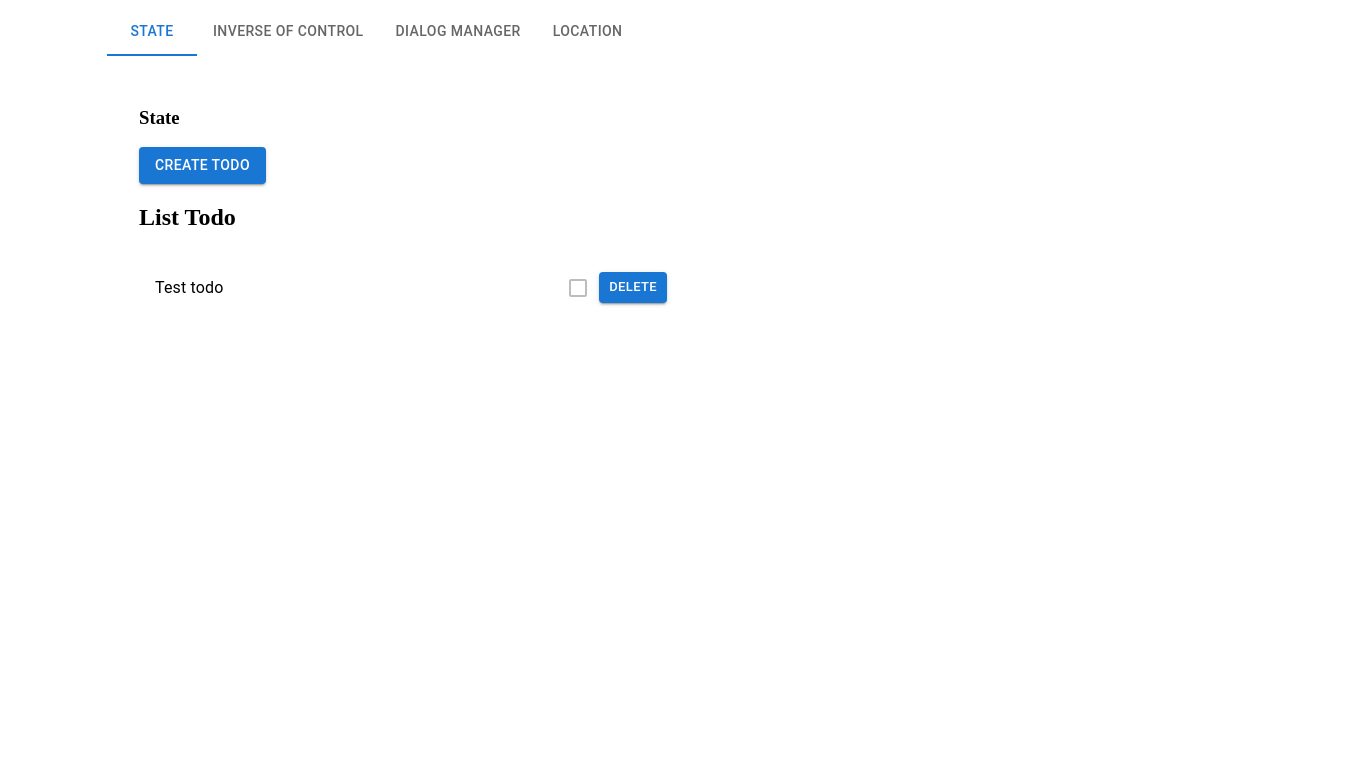
Test: ListPage test suite › should open delete modal in state page
The image size is (1366, 768).
Expected: the text "Test todo" is shown, [155,278,223,297]
Click the button "Delete" at (633, 288), box [599,272,667,303]
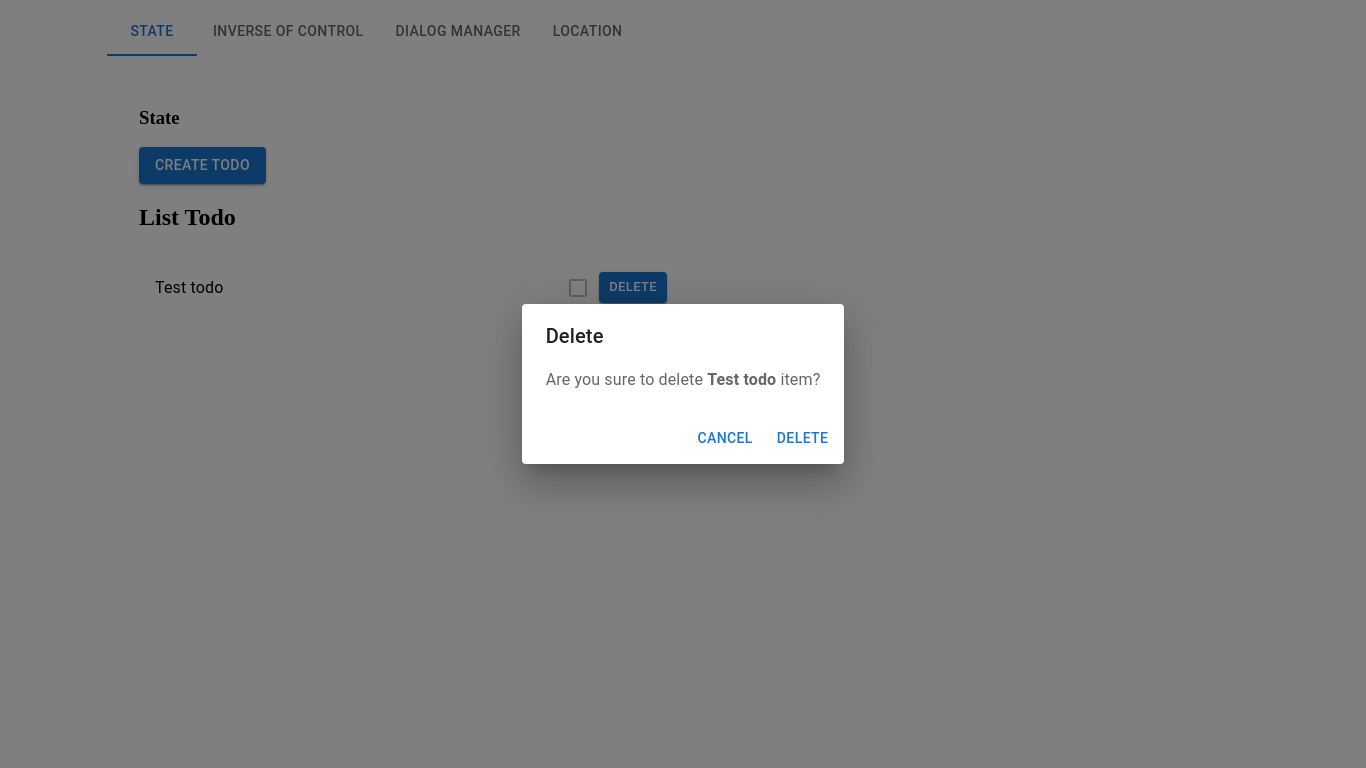
Expected: the text "Test todo" is shown, [707,370,776,389]
